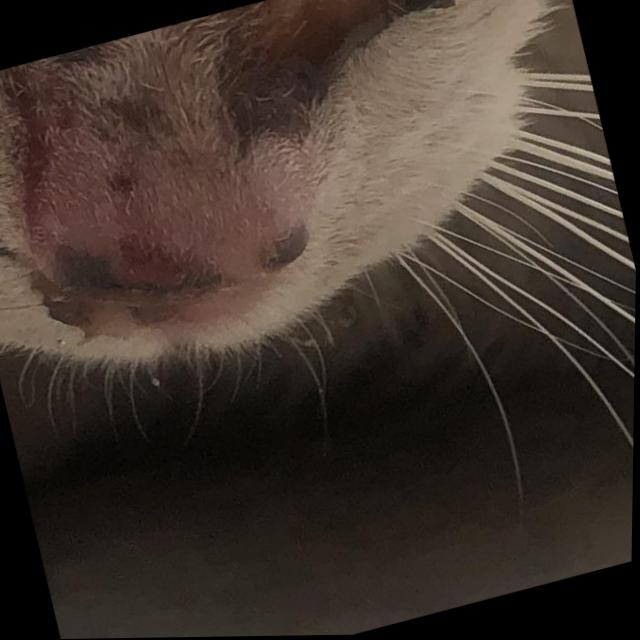animals: (0, 0, 640, 461)
